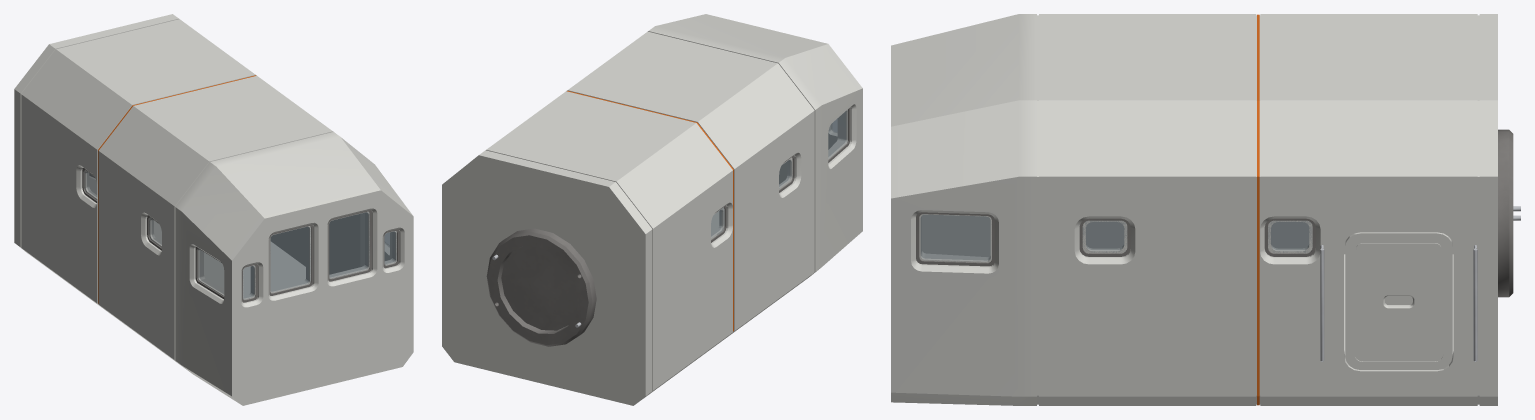
The model's file is ax_rover_02_cab4.glb.
3 views of the same model, side by side, from view 1: azimuth 30°, elevation 25°; view 2: azimuth 150°, elevation 25°; view 3: azimuth 270°, elevation 25° (orthographic). The views are drawn at different scales.
Parts seen in each view (by area): view 1: hub_shell, window_glass, window_frames, orange_stripes; view 2: hub_shell, hub_ring_rear, hatch_door_1, window_glass, window_frames, orange_stripes; view 3: hub_shell, hatch_door_2, window_glass, hub_ring_rear, window_frames, orange_stripes, handrails.
Part boxes in pixels (x1,y1,x2,y2): hub_shell: (14,14,413,405); window_glass: (85,172,396,298); window_frames: (82,168,399,302); orange_stripes: (98,75,256,303); hub_shell: (442,14,862,405); hub_ring_rear: (486,228,596,346); hatch_door_1: (501,246,578,330); window_glass: (711,110,847,237); window_frames: (711,108,850,242); orange_stripes: (567,90,733,331); hub_shell: (891,14,1497,405); hatch_door_2: (1345,232,1452,369); window_glass: (920,214,1311,261); hub_ring_rear: (1498,129,1513,297); window_frames: (916,212,1315,266); orange_stripes: (1257,14,1259,405); handrails: (1320,245,1477,361).
Size of the model in its own units: 2.58 by 2.56 by 4.93.
5 materials, 2 textured.
